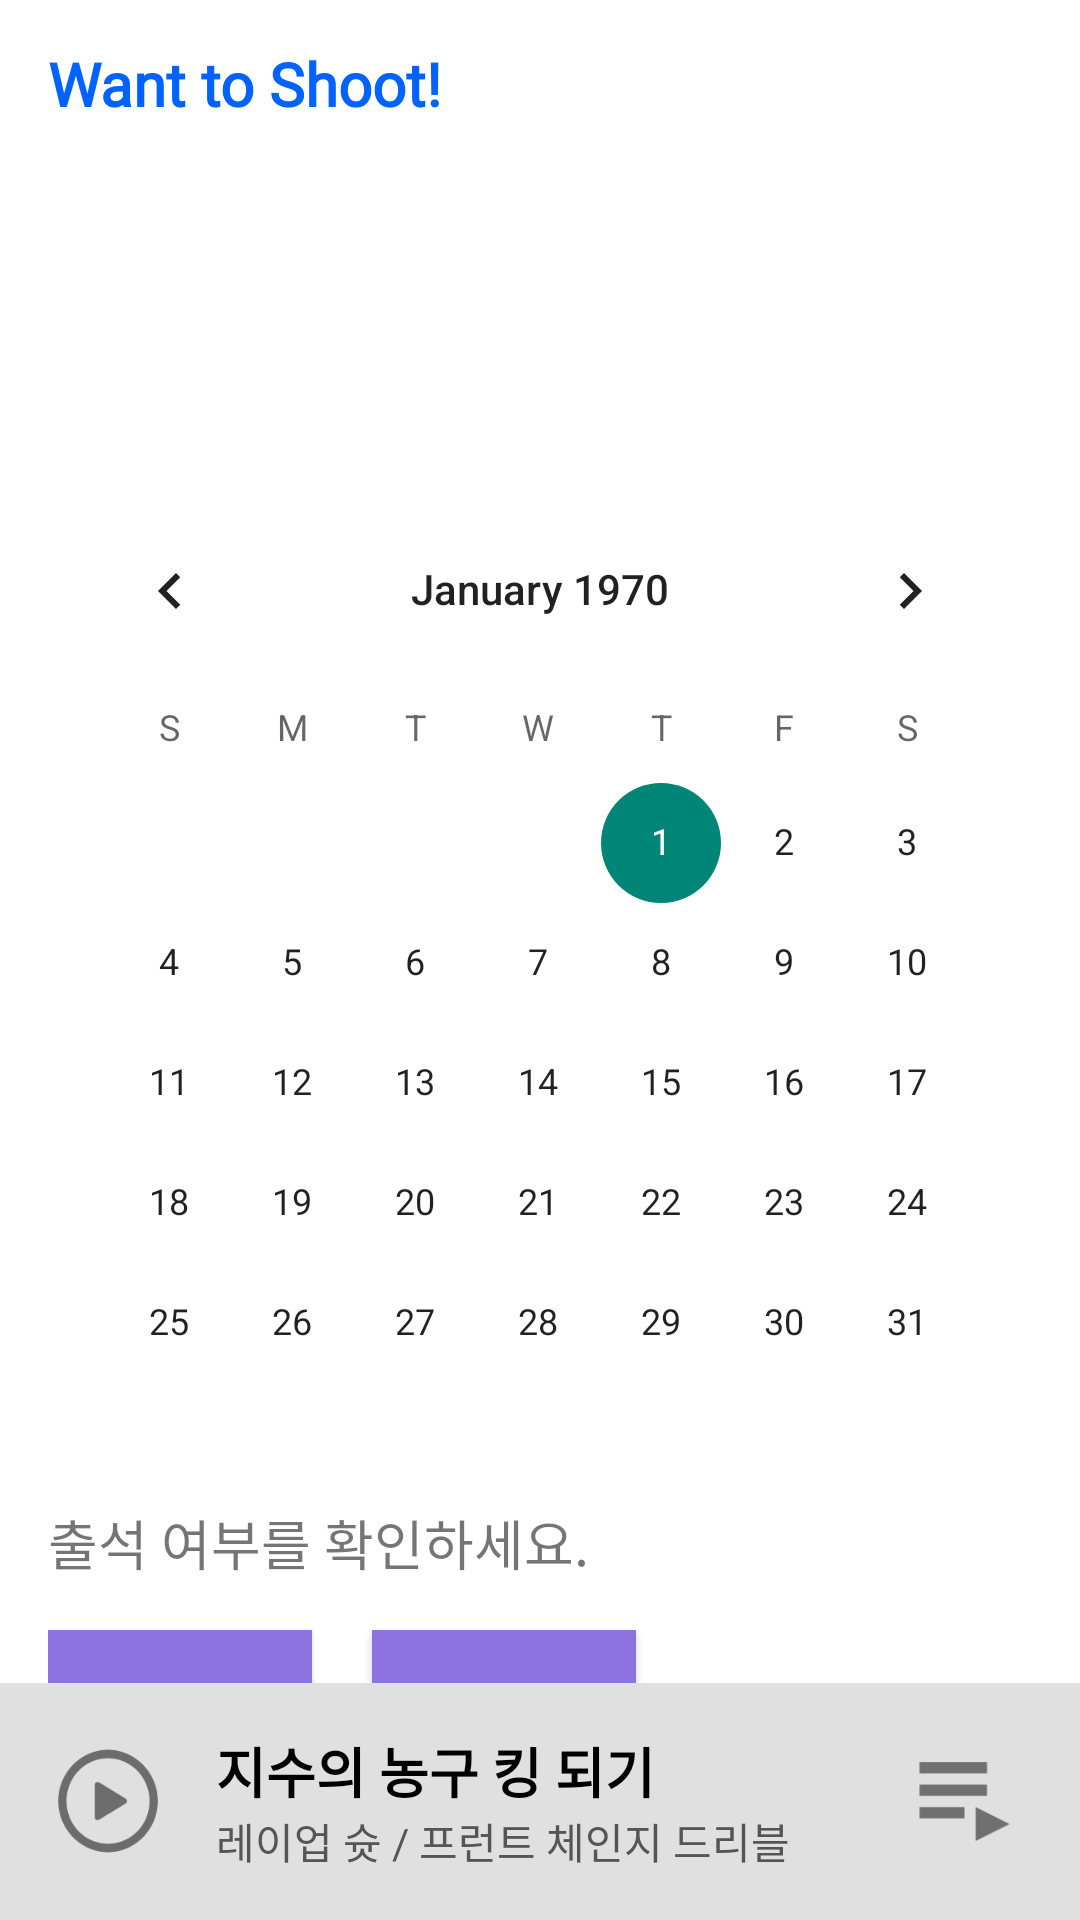

Screen size 1080×1920. Icon name, then its box in pixels as [x1, y1, x2, y2]:
Open Playlist: [919, 1762, 1009, 1841]
